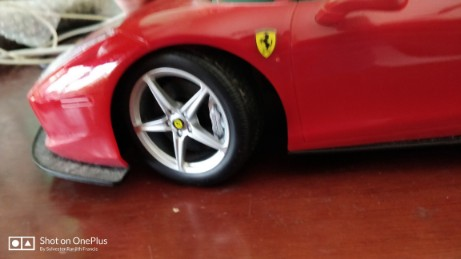unaligned_wheel: (126, 62, 264, 185)
